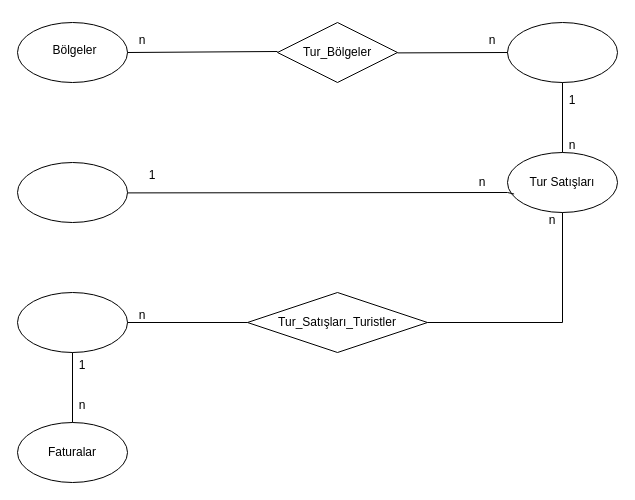
Image size: 635x500. Some labels were removed from this diagram. Here are the shapes that lost their labels. From the top down, the centre of each, then its label:
At pixel 562 52: "Turlar".
At pixel 72 192: "Rehberler".
At pixel 72 322: "Turistler".
